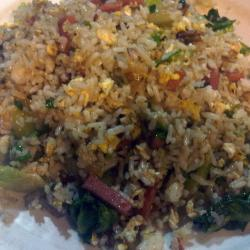rice: (7, 7, 236, 204)
